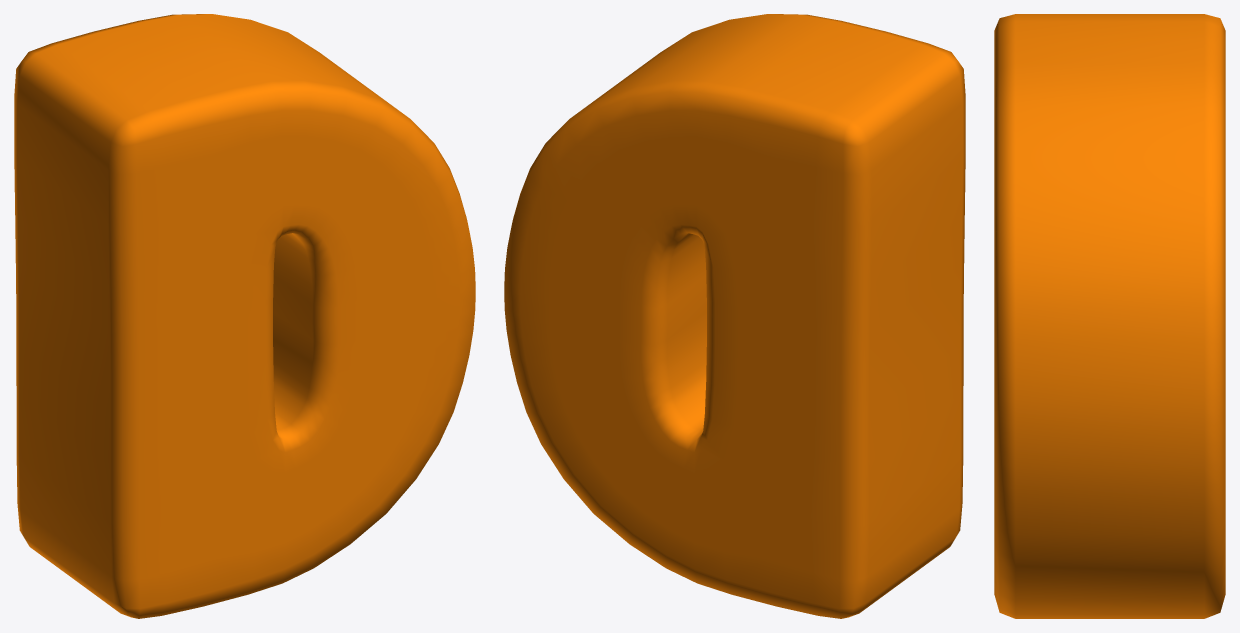
The picture shows the model from 3 angles, left to right: view 1: azimuth 30°, elevation 25°; view 2: azimuth 150°, elevation 25°; view 3: azimuth 270°, elevation 25°; orthographic projection. The views are drawn at different scales.
Visible parts, largest first — view 1: LETTER_D; view 2: LETTER_D; view 3: LETTER_D.
Boxes of the visible parts, box(x1,y1,x2,y2) form: LETTER_D: box(14, 14, 475, 618); LETTER_D: box(504, 14, 965, 618); LETTER_D: box(994, 14, 1225, 618).
Size of the model in its own units: 0.7541 by 1 by 0.3976.
